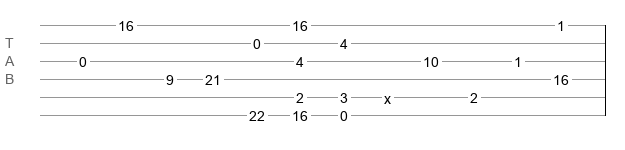0: (79, 54, 87, 64), (253, 36, 261, 46), (340, 108, 348, 118)
1: (514, 54, 522, 64), (557, 18, 565, 28)
10: (423, 54, 439, 64)
16: (118, 18, 134, 28), (292, 108, 308, 118), (292, 18, 308, 28), (553, 72, 569, 82)
2: (296, 90, 304, 100), (470, 90, 478, 100)
21: (205, 72, 221, 82)
22: (249, 108, 265, 118)
3: (340, 90, 348, 100)
4: (296, 54, 304, 64), (340, 36, 348, 46)
9: (166, 72, 174, 82)
x: (384, 91, 391, 99)
